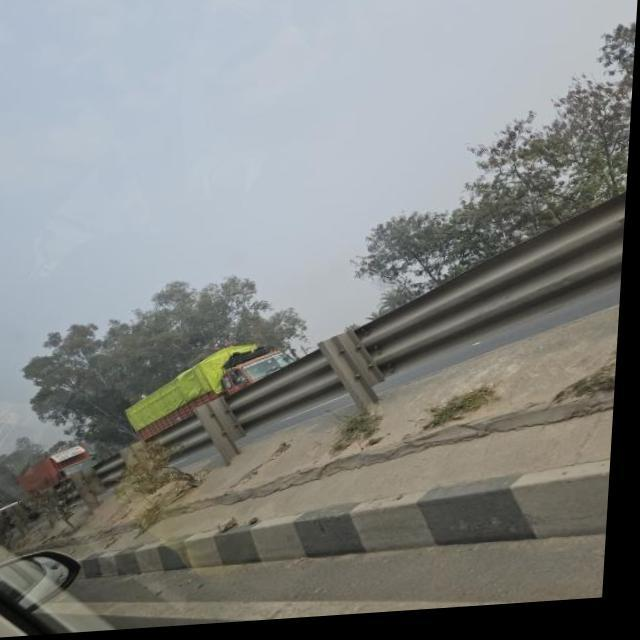covered: (106, 332, 340, 436)
uncovered: (10, 440, 101, 504)
